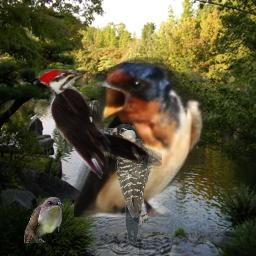Cuckoo: (24, 197, 64, 243)
Swallow: (74, 57, 206, 217)
Woodpecker: (35, 69, 162, 179), (101, 124, 161, 244)
